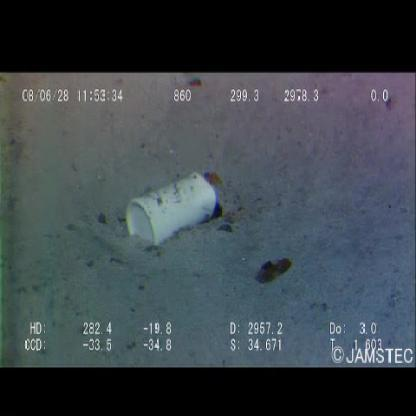Rác: (127, 174, 224, 248)
